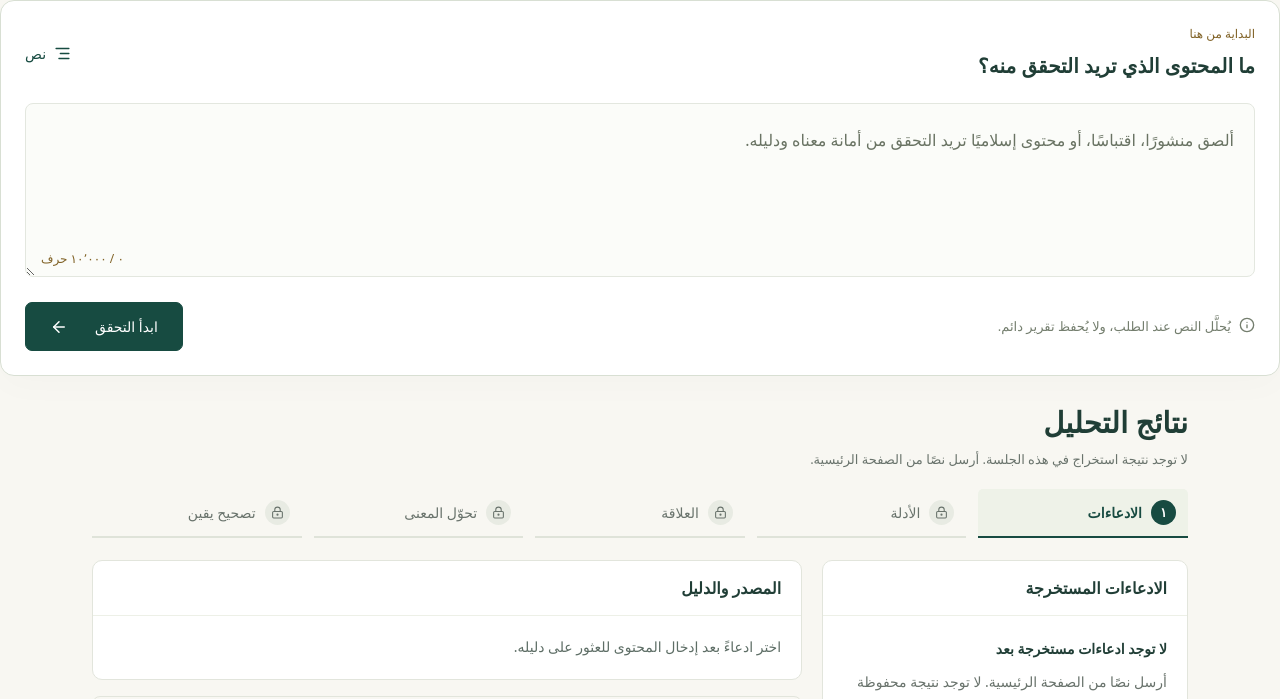
claim extraction UI › distinguishes an empty extraction from no extraction
Type "I love this beautiful city." into the text box at (640, 190), box [25,103,1255,277]
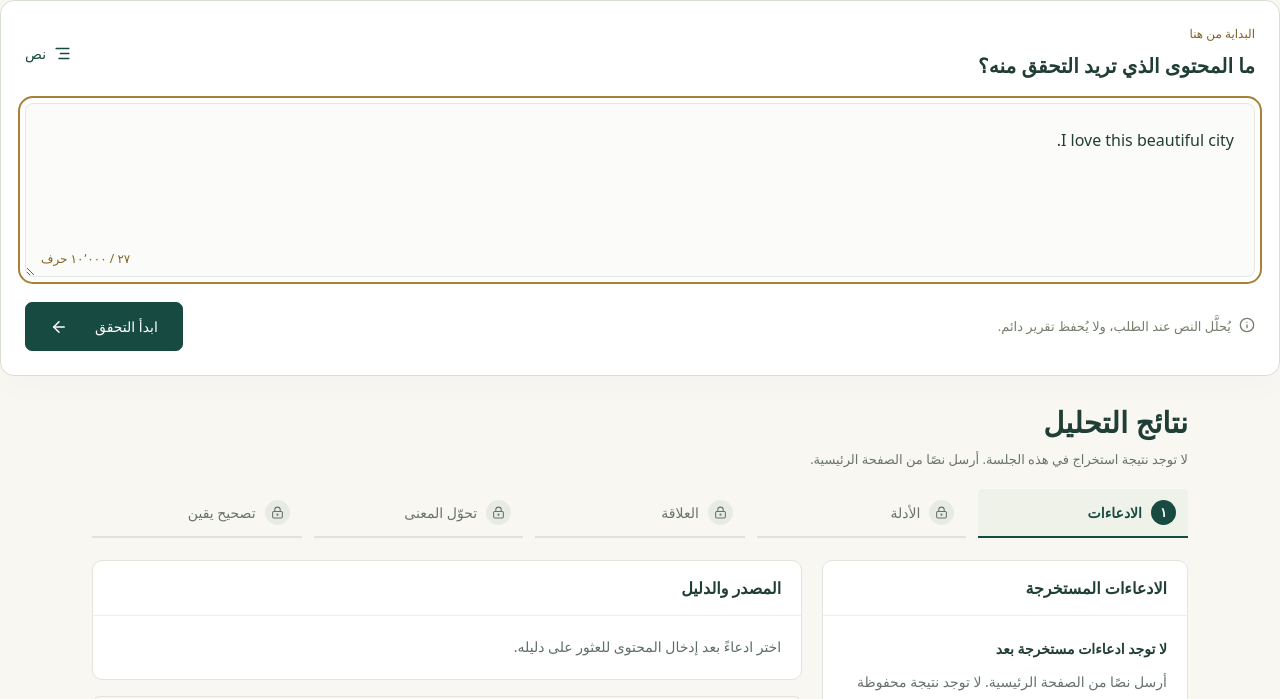
Click the button "ابدأ التحقق" at (104, 326), box [25,302,183,351]
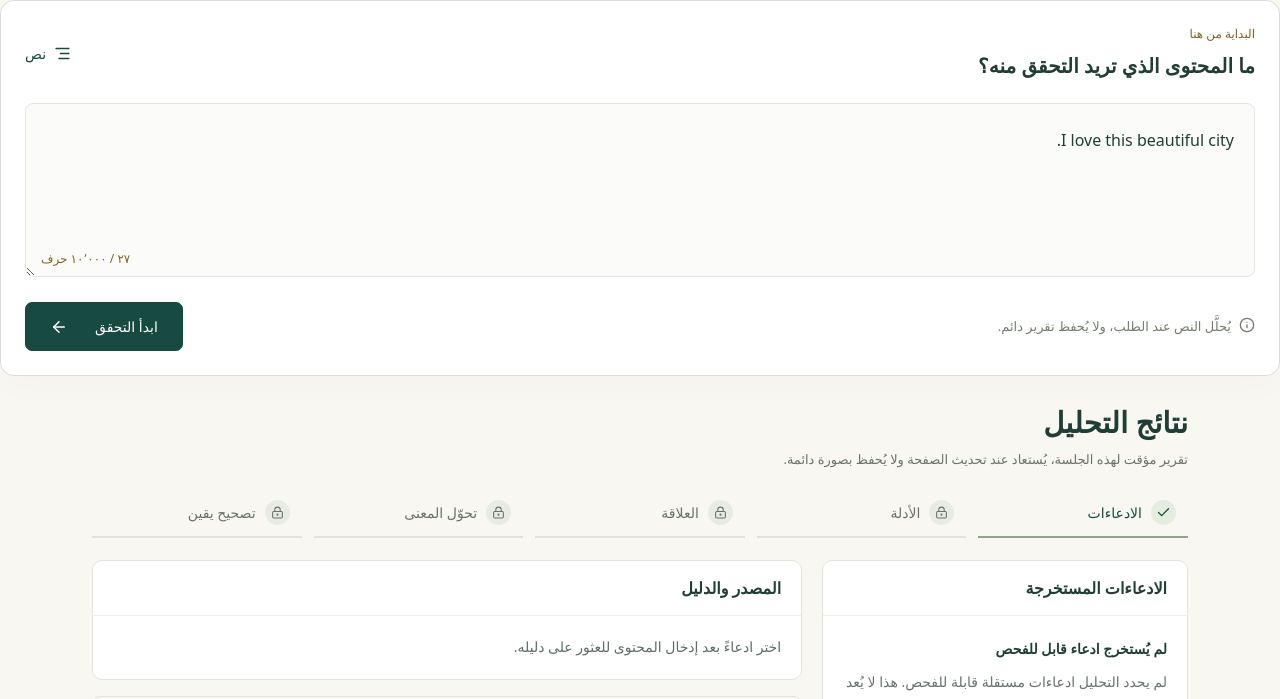
Expected: the heading "لم يُستخرج ادعاء قابل للفحص" is shown, [996,639,1167,658]
